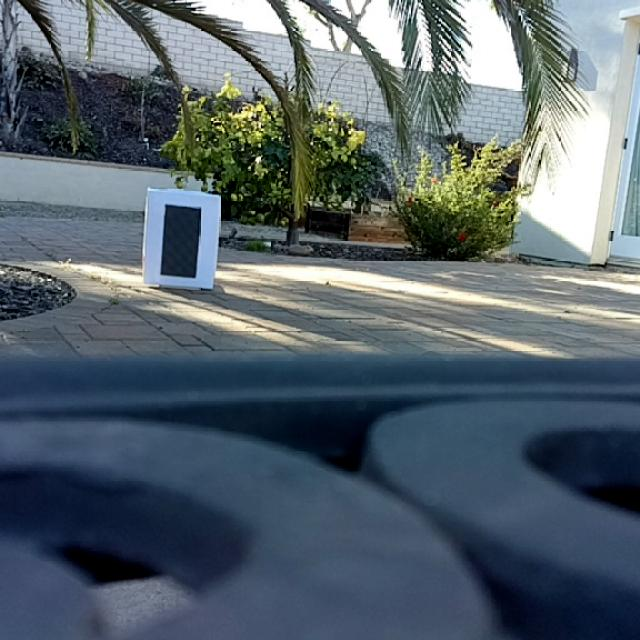led: (162, 204, 202, 279)
